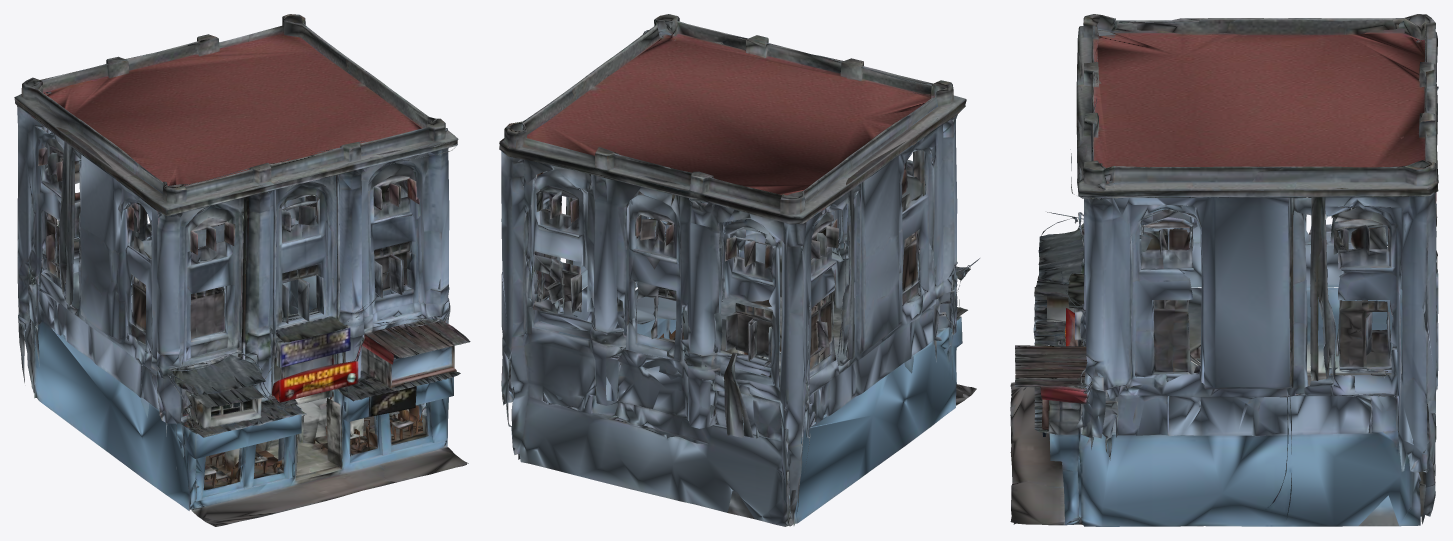
File: coffe_house.glb
3 renders of one model, left to right at view 1: azimuth 30°, elevation 25°; view 2: azimuth 150°, elevation 25°; view 3: azimuth 270°, elevation 25°, orthographic. The views are drawn at different scales.
Size of the model in its own units: 1.76 by 1.78 by 1.9.
1 material, 1 textured.
